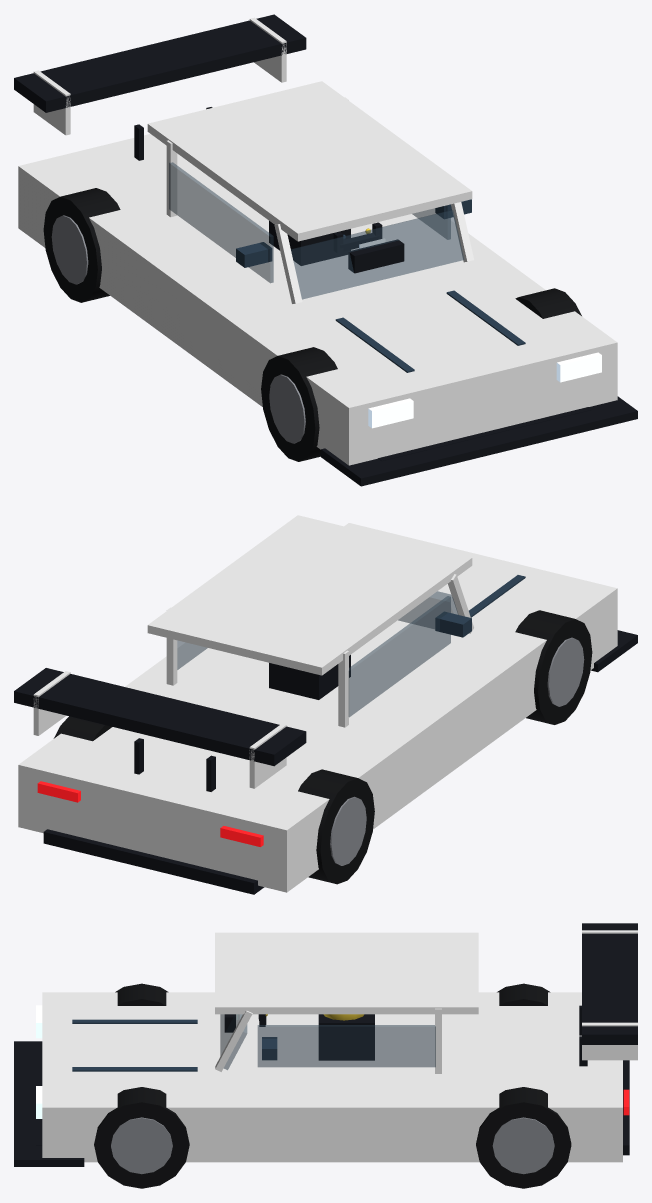
The model's file is lmgt3.glb.
The picture shows the model from 3 angles, top to bottom: view 1: azimuth 30°, elevation 25°; view 2: azimuth 150°, elevation 25°; view 3: azimuth 270°, elevation 25°; orthographic projection. The views are drawn at different scales.
Visible parts, largest first — view 1: body, roof, rear-wing, windscreen, splitter, side-window--1, tyre--1--1, tyre--1-1, rim--1-1, rim--1--1, seat, dashboard (+13 smaller); view 2: body, roof, rear-wing, side-window--1, tyre--1-1, tyre--1--1, floor, rim--1-1, rim--1--1, seat, windscreen, wing-endplate--1 (+8 smaller); view 3: body, roof, side-window-1, rear-wing, tyre-1-1, tyre-1--1, splitter, rim-1--1, rim-1-1, seat, wing-endplate-1, tyre--1-1 (+7 smaller).
Part boxes in pixels (x1=…): body: x1=18, y1=134, x2=617, y2=465; roof: x1=147, y1=81, x2=472, y2=241; rear-wing: x1=14, y1=14, x2=306, y2=112; windscreen: x1=291, y1=210, x2=464, y2=299; splitter: x1=321, y1=396, x2=637, y2=486; side-window--1: x1=169, y1=162, x2=273, y2=283; tyre--1--1: x1=43, y1=188, x2=120, y2=302; tyre--1-1: x1=261, y1=347, x2=337, y2=461; rim--1-1: x1=269, y1=374, x2=305, y2=443; rim--1--1: x1=51, y1=215, x2=88, y2=284; seat: x1=269, y1=221, x2=350, y2=265; dashboard: x1=348, y1=239, x2=404, y2=273; body: x1=18, y1=523, x2=617, y2=892; roof: x1=147, y1=515, x2=472, y2=675; rear-wing: x1=14, y1=668, x2=306, y2=766; side-window--1: x1=348, y1=596, x2=450, y2=717; tyre--1-1: x1=515, y1=610, x2=592, y2=724; tyre--1--1: x1=298, y1=769, x2=374, y2=884; floor: x1=43, y1=829, x2=264, y2=894; rim--1-1: x1=547, y1=637, x2=584, y2=706; rim--1--1: x1=330, y1=796, x2=366, y2=865; seat: x1=269, y1=655, x2=350, y2=699; windscreen: x1=398, y1=591, x2=458, y2=628; wing-endplate--1: x1=249, y1=724, x2=286, y2=788; body: x1=42, y1=992, x2=622, y2=1162; roof: x1=215, y1=932, x2=478, y2=1014; side-window-1: x1=257, y1=1025, x2=435, y2=1067; rear-wing: x1=582, y1=923, x2=637, y2=1044; tyre-1-1: x1=94, y1=1087, x2=189, y2=1188; tyre-1--1: x1=476, y1=1087, x2=571, y2=1188; splitter: x1=14, y1=1041, x2=84, y2=1166; rim-1--1: x1=492, y1=1117, x2=554, y2=1174; rim-1-1: x1=111, y1=1117, x2=172, y2=1174; seat: x1=318, y1=1014, x2=374, y2=1060; wing-endplate-1: x1=582, y1=1022, x2=637, y2=1060; tyre--1-1: x1=115, y1=983, x2=168, y2=1005.
Bounding box in the file's own units: 2.02 × 1.25 × 4.45.
